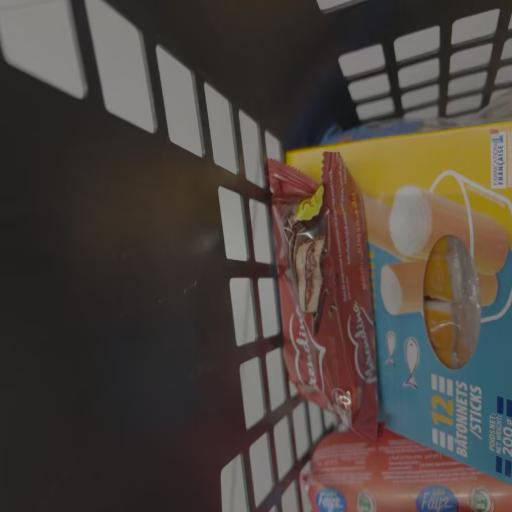merendina: (257, 152, 387, 432)
